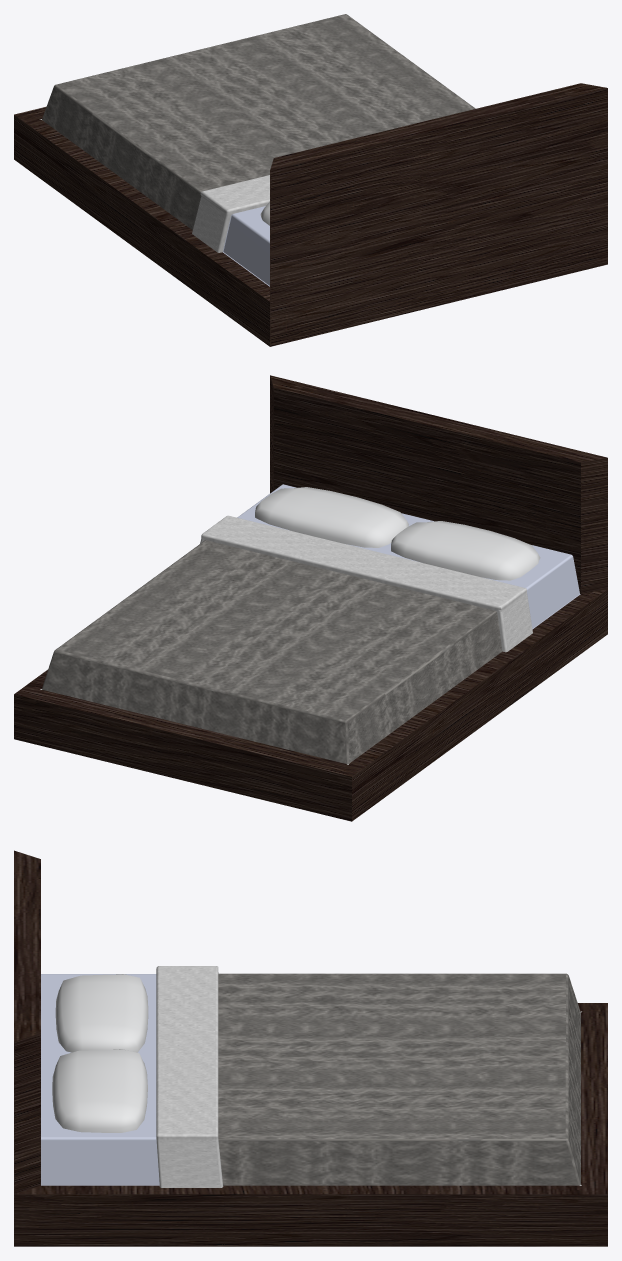
Rendered from bed texture.fbx.
3 renders of one model, top to bottom at view 1: azimuth 30°, elevation 25°; view 2: azimuth 150°, elevation 25°; view 3: azimuth 270°, elevation 25°, orthographic. The views are drawn at different scales.
Visible parts, largest first — view 1: polySurface1; view 2: polySurface1, polySurface2; view 3: polySurface1, polySurface2.
Part boxes in pixels (<box>): polySurface1: <box>14,14,607,346</box>; polySurface1: <box>14,375,607,821</box>; polySurface2: <box>255,487,540,580</box>; polySurface1: <box>14,850,607,1246</box>; polySurface2: <box>52,974,148,1132</box>.
Bounding box in the file's own units: 4.51 × 2.25 × 5.92.
Materials: 6 (6 with a texture image).
